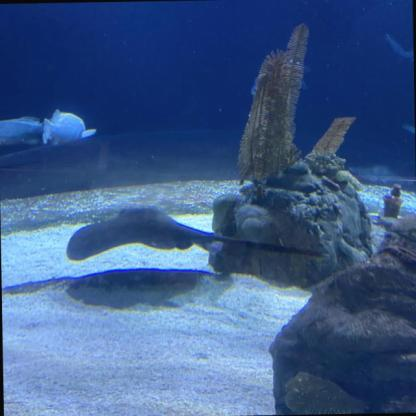fish: (41, 111, 98, 147), (0, 115, 41, 152)
stingray: (65, 201, 211, 256)
